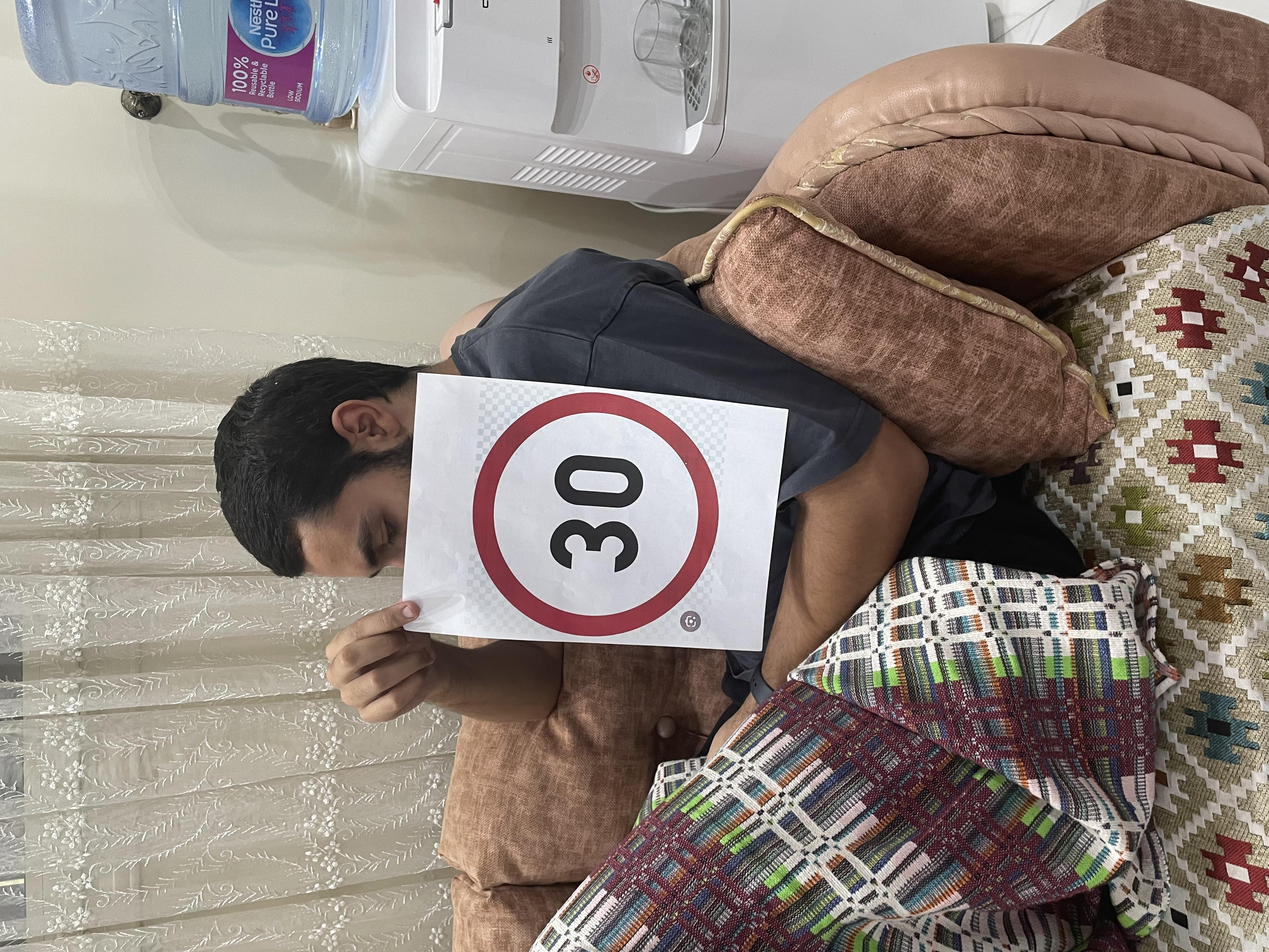30-speed: (420, 352, 747, 543)
